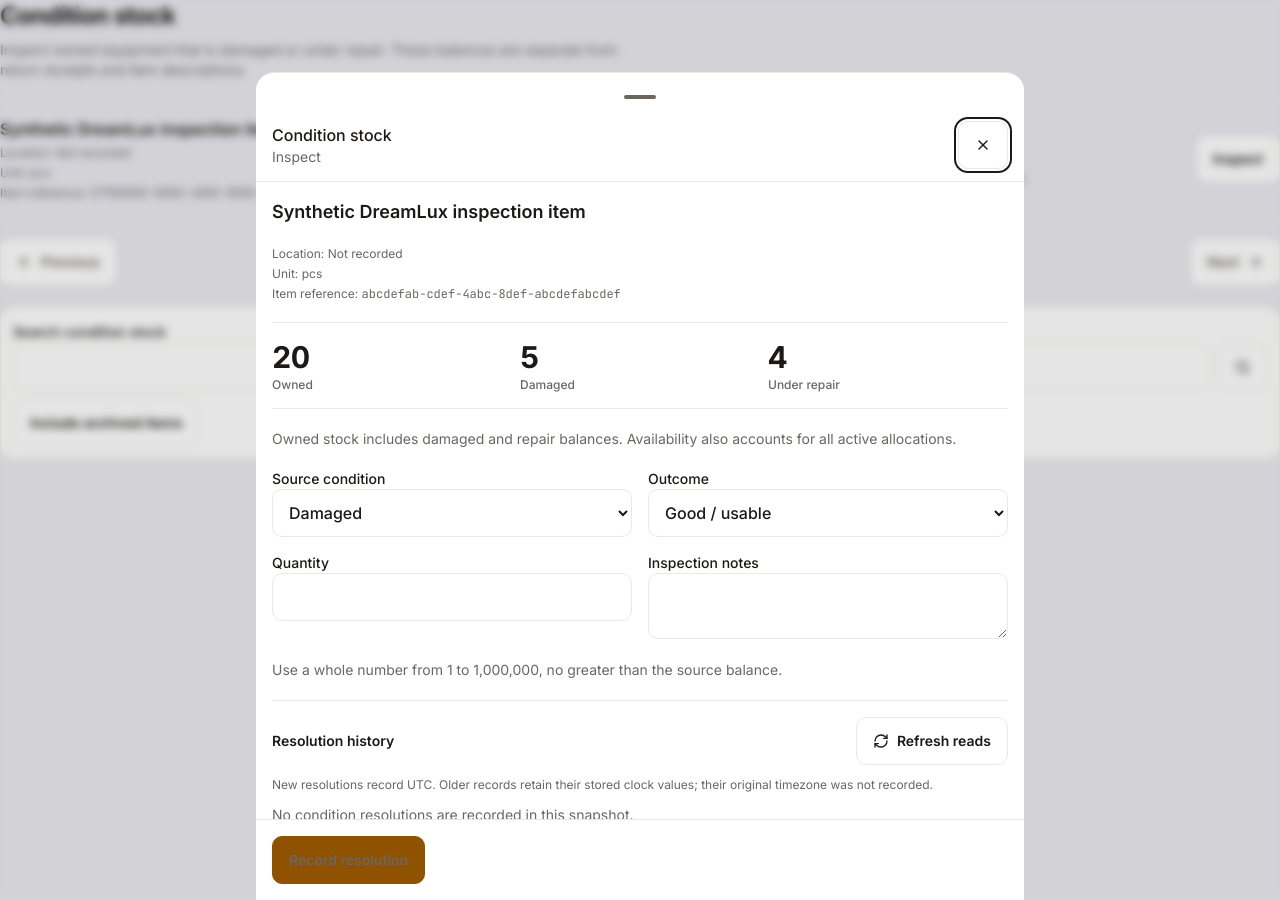
Test case: condition-stock operator interface › keeps a case-equivalent deep link attached to its actual item and saved outcome
Expected: the heading "Synthetic DreamLux inspection item" is shown, [272,201,586,222]
Step 1. Type "2" into the field labelled "Quantity" → (452, 597), box [272,573,632,621]
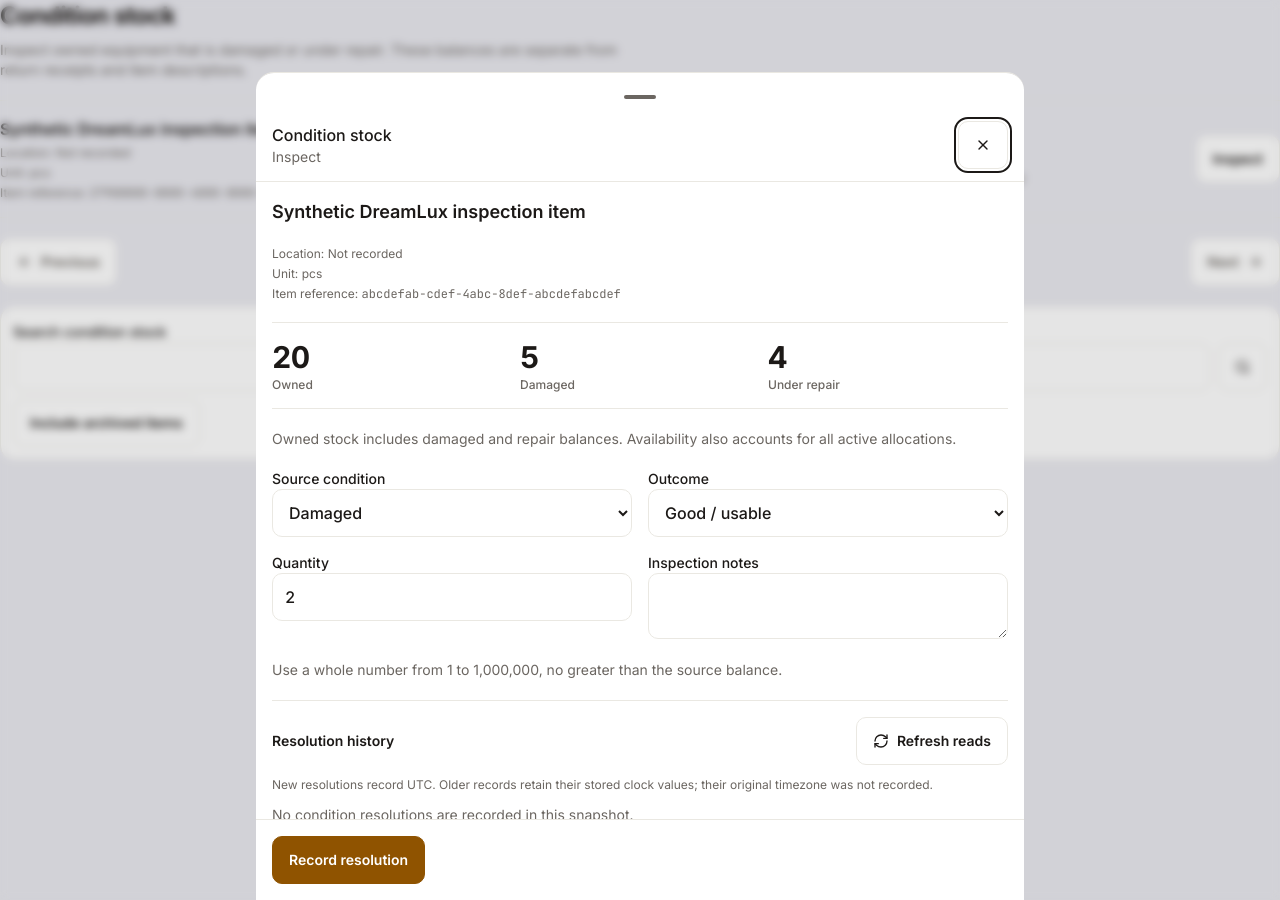
Step 2. Click the button "Record resolution" → (349, 860), box [272,836,425,884]
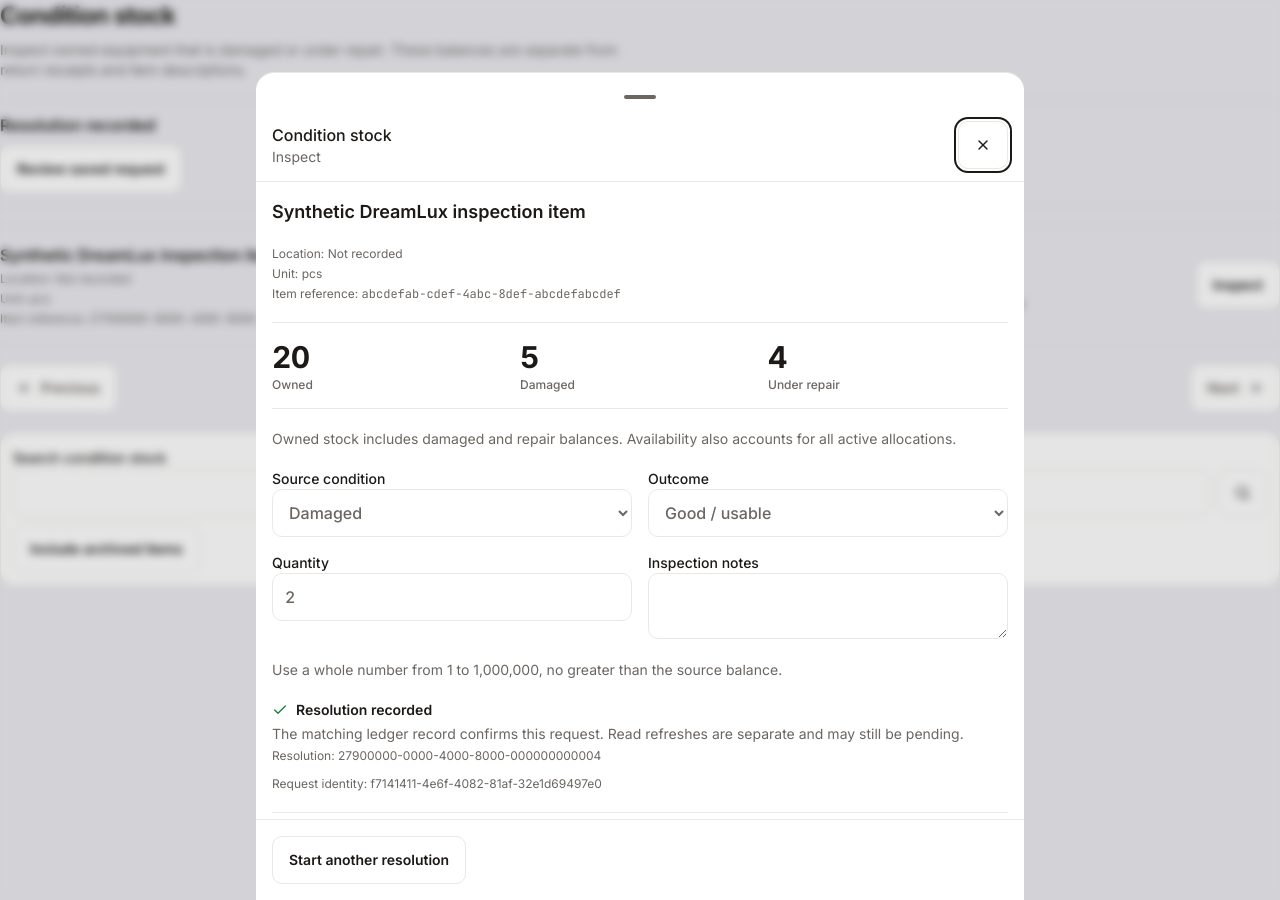
Expected: the text "abcdefab-cdef-4abc-8def-abcdefabcdef" is shown, [362,286,621,302]
Now the text "Resolution recorded" is shown, box [272,701,432,718]
